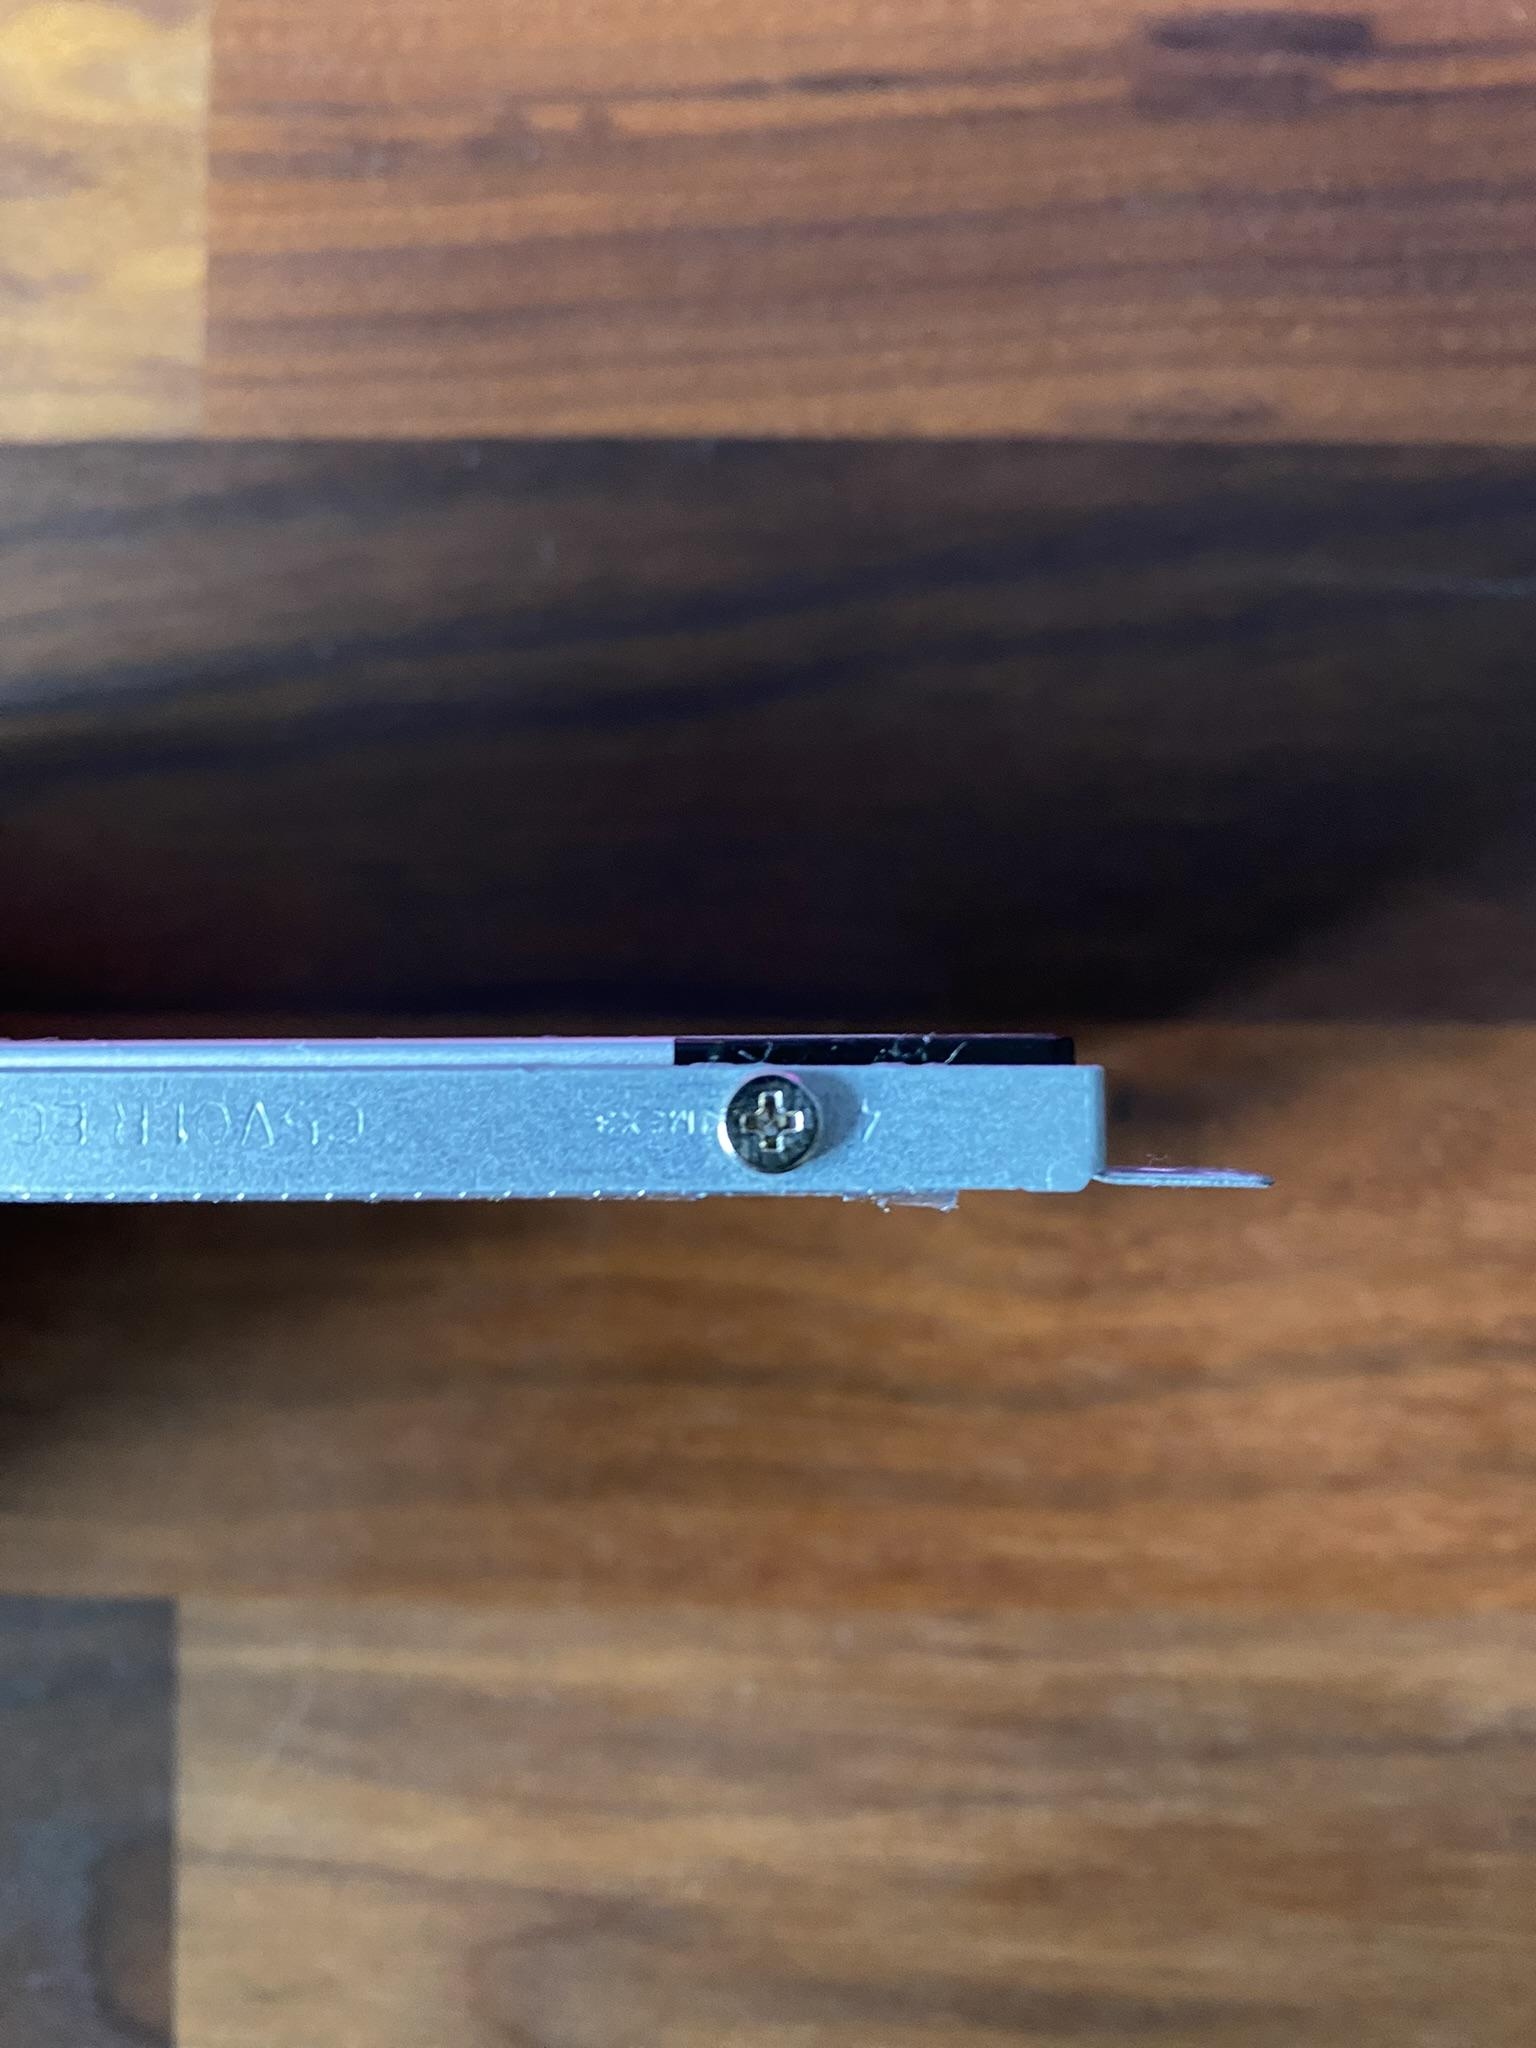PH: (718, 1072, 826, 1177)
